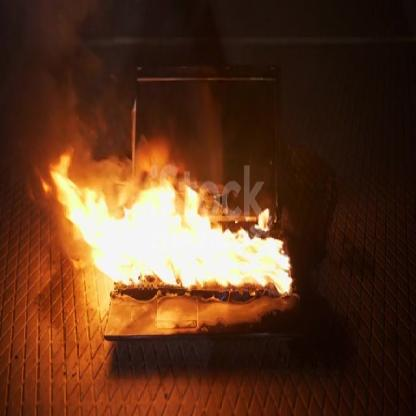fire: (52, 150, 304, 310)
smoke: (0, 0, 144, 192)
